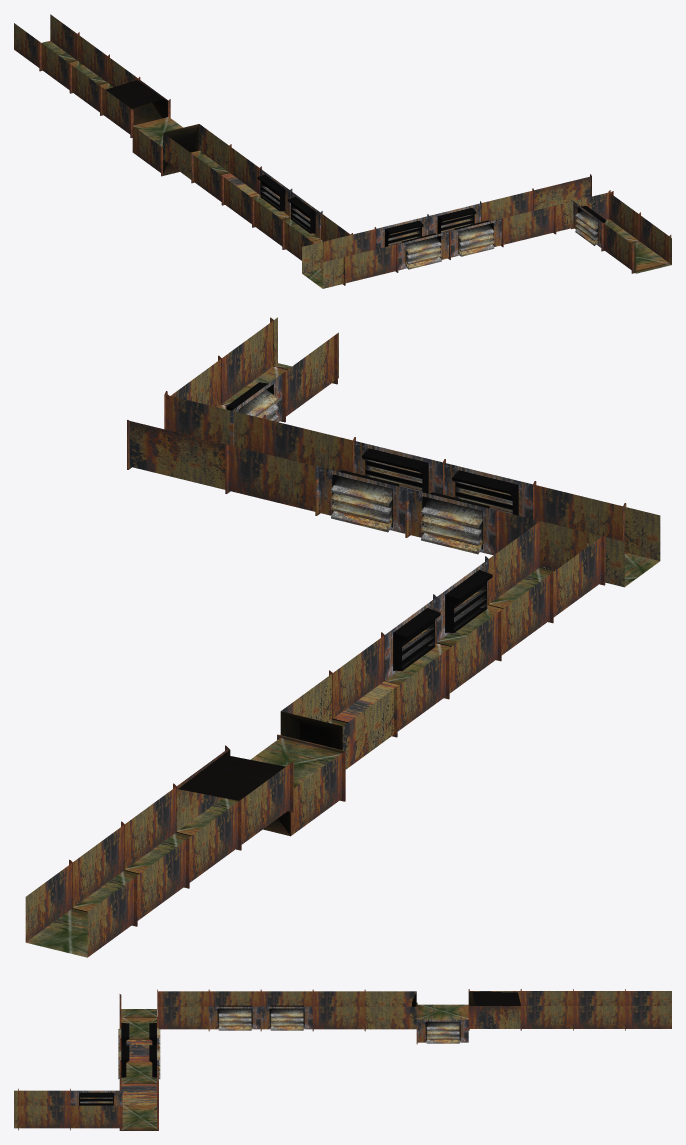
The model's file is Aircon.fbx.
3 renders of one model, top to bottom at view 1: azimuth 30°, elevation 25°; view 2: azimuth 150°, elevation 25°; view 3: azimuth 270°, elevation 25°, orthographic. The views are drawn at different scales.
Parts seen in each view (by area): view 1: Empty_Mesh; view 2: Empty_Mesh; view 3: Empty_Mesh.
Boxes of the visible parts, left/top/right/bottom form: Empty_Mesh: left=14, top=14, right=671, bottom=288; Empty_Mesh: left=25, top=317, right=660, bottom=957; Empty_Mesh: left=14, top=989, right=671, bottom=1130.
Bounding box in the file's own units: 1658 × 247 × 3810.
